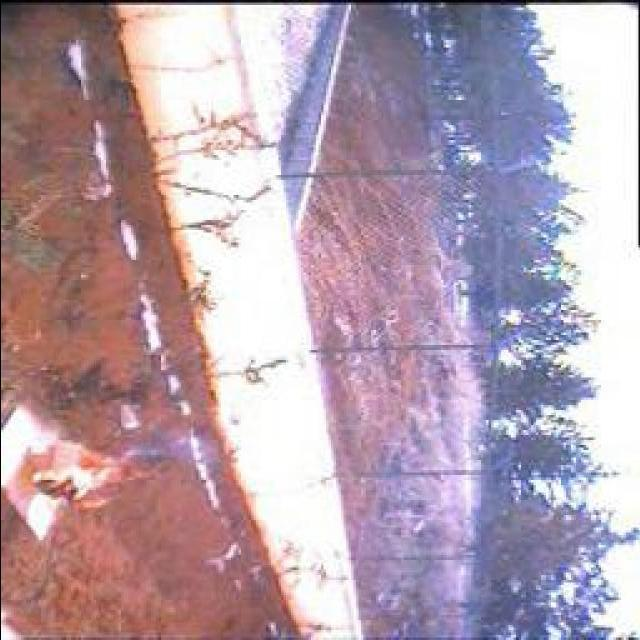Fire: (19, 438, 168, 512)
